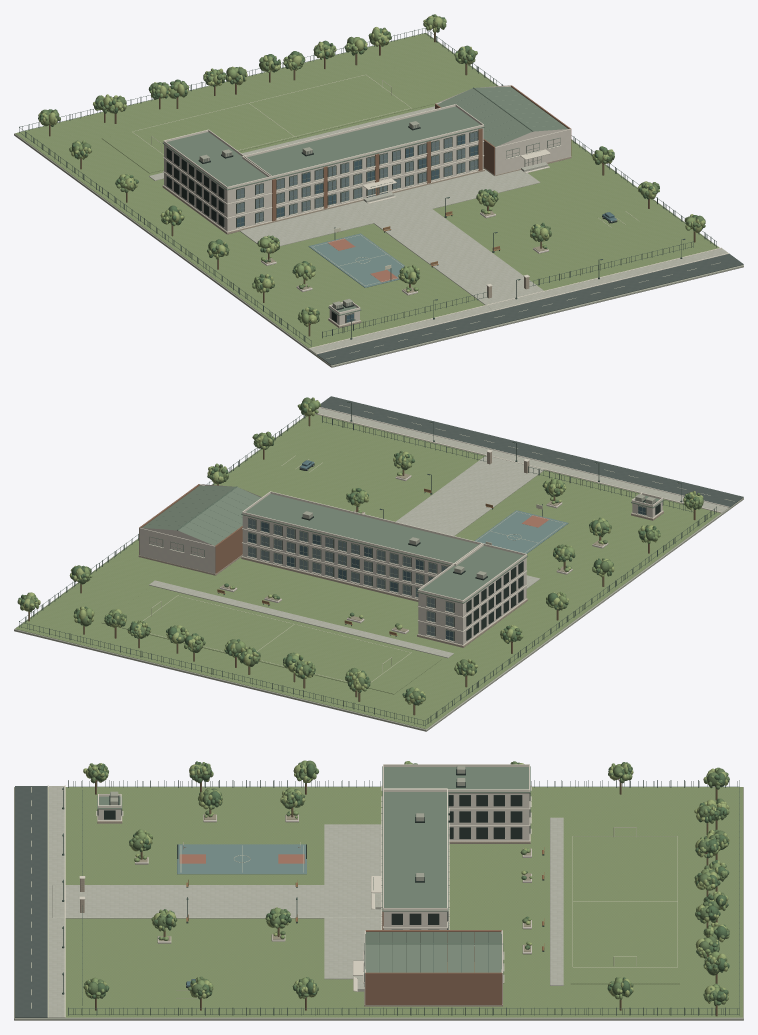
Rendered from school-intact.glb.
The picture shows the model from 3 angles, top to bottom: view 1: azimuth 30°, elevation 25°; view 2: azimuth 150°, elevation 25°; view 3: azimuth 270°, elevation 25°; orthographic projection. The views are drawn at different scales.
Visible parts, largest first — view 1: 材质批次_grass, 材质批次_plaza_paving, 材质批次_sage_metal_roof, 材质批次_limestone, 材质批次_warm_cream_trim, 材质批次_asphalt, 材质批次_street_metal, 材质批次_leaf_2, 材质批次_window_frames, 材质批次_leaf_0, 材质批次_poi_window_lit, 材质批次_poi_service_concrete (+9 smaller); view 2: 材质批次_grass, 材质批次_sage_metal_roof, 材质批次_limestone, 材质批次_plaza_paving, 材质批次_warm_cream_trim, 材质批次_asphalt, 材质批次_street_metal, 材质批次_leaf_1, 材质批次_window_frames, 材质批次_leaf_2, 材质批次_poi_service_concrete, 材质批次_leaf_0 (+9 smaller); view 3: 材质批次_grass, 材质批次_plaza_paving, 材质批次_sage_metal_roof, 材质批次_asphalt, 材质批次_poi_brick_red, 材质批次_warm_cream_trim, 材质批次_street_metal, 材质批次_limestone, 材质批次_leaf_1, 材质批次_poi_service_concrete, 材质批次_school_court, 材质批次_leaf_3 (+7 smaller).
Boxes of the visible parts, box(x1,y1,x2,y2) form: 材质批次_grass: box(15, 33, 719, 348); 材质批次_plaza_paving: box(149, 106, 727, 353); 材质批次_sage_metal_roof: box(162, 87, 567, 315); 材质批次_limestone: box(164, 85, 570, 325); 材质批次_warm_cream_trim: box(163, 104, 729, 354); 材质批次_asphalt: box(317, 253, 743, 365); 材质批次_street_metal: box(19, 27, 716, 346); 材质批次_leaf_2: box(38, 16, 704, 326); 材质批次_window_frames: box(236, 131, 560, 322); 材质批次_leaf_0: box(38, 16, 705, 324); 材质批次_poi_window_lit: box(237, 132, 477, 222); 材质批次_poi_service_concrete: box(14, 33, 743, 367); 材质批次_grass: box(15, 414, 720, 729); 材质批次_sage_metal_roof: box(142, 485, 663, 603); 材质批次_limestone: box(139, 475, 662, 644); 材质批次_plaza_paving: box(149, 407, 728, 658); 材质批次_warm_cream_trim: box(149, 407, 729, 645); 材质批次_asphalt: box(320, 396, 743, 507); 材质批次_street_metal: box(19, 401, 716, 726); 材质批次_leaf_1: box(17, 397, 701, 704); 材质批次_window_frames: box(149, 506, 646, 641); 材质批次_leaf_2: box(18, 397, 703, 704); 材质批次_poi_service_concrete: box(14, 417, 743, 731); 材质批次_leaf_0: box(20, 400, 703, 705); 材质批次_grass: box(48, 787, 742, 1017); 材质批次_plaza_paving: box(49, 786, 563, 1017); 材质批次_sage_metal_roof: box(97, 766, 530, 972); 材质批次_asphalt: box(15, 786, 47, 1017); 材质批次_poi_brick_red: box(365, 911, 502, 1004); 材质批次_warm_cream_trim: box(47, 764, 531, 1017); 材质批次_street_metal: box(62, 767, 739, 1015); 材质批次_limestone: box(98, 793, 531, 1004); 材质批次_leaf_1: box(83, 760, 729, 1005); 材质批次_poi_service_concrete: box(14, 765, 743, 1020); 材质批次_school_court: box(177, 844, 306, 874); 材质批次_leaf_3: box(89, 761, 729, 1005).
Bounding box in the file's own units: 122 × 14.55 × 160.
31 materials, 5 textured.
